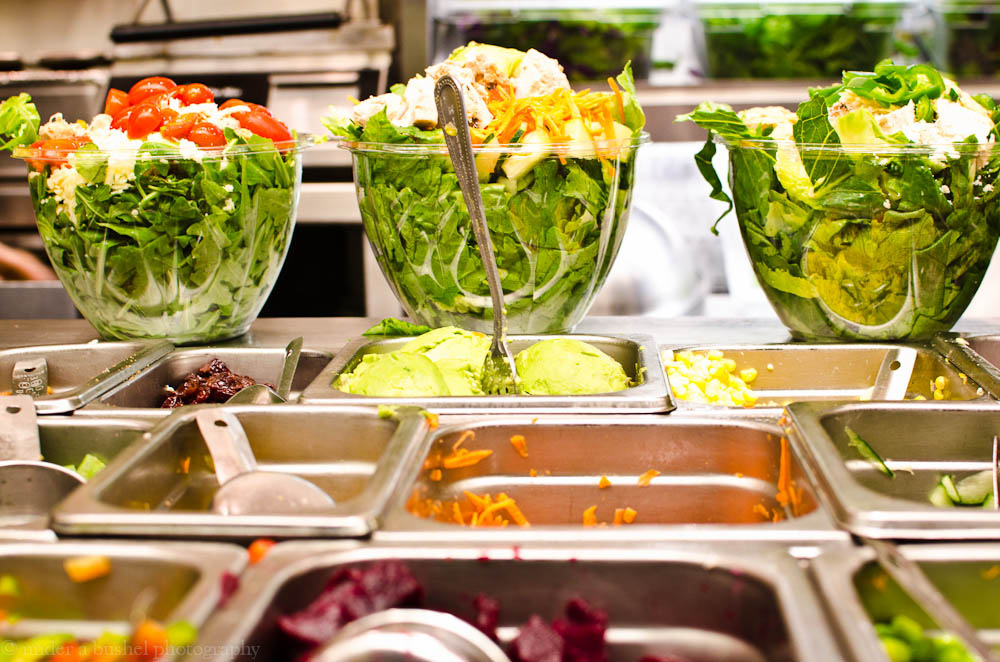chopped lettuce: (717, 116, 999, 344), (370, 154, 628, 331), (45, 173, 284, 335)
